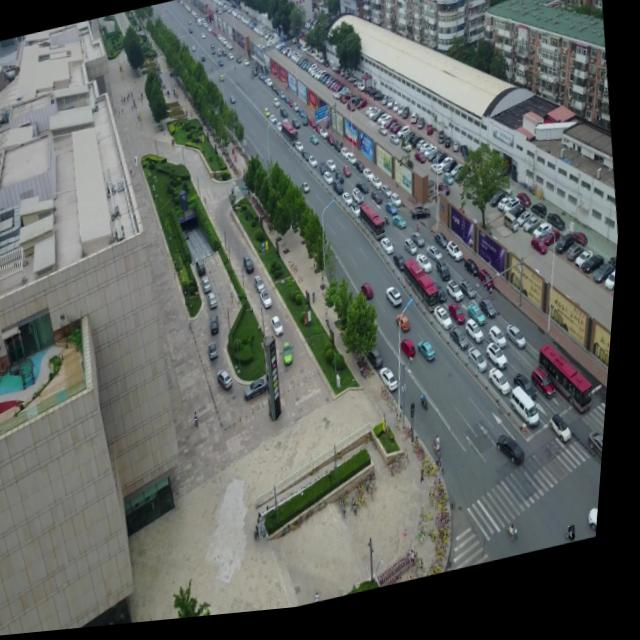Person: (577, 537, 585, 554), (518, 536, 525, 553), (200, 416, 207, 432), (137, 159, 141, 169), (132, 170, 136, 179), (173, 143, 177, 150), (175, 142, 178, 150)
